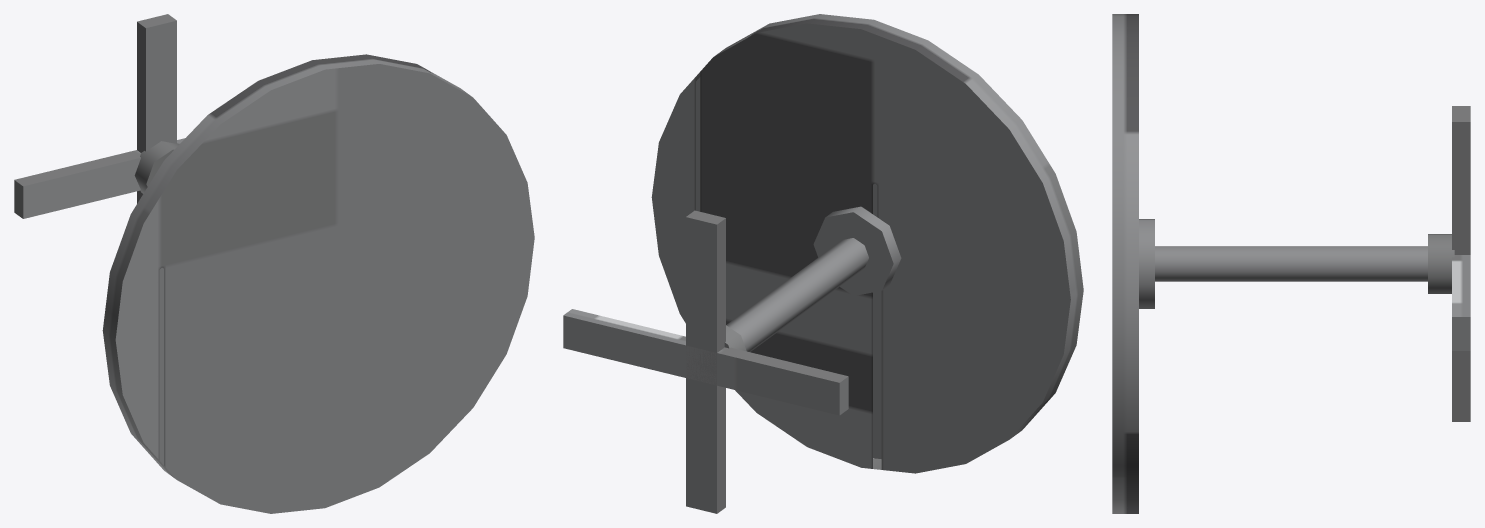
3 renders of one model, left to right at view 1: azimuth 30°, elevation 25°; view 2: azimuth 150°, elevation 25°; view 3: azimuth 270°, elevation 25°, orthographic. The views are drawn at different scales.
Bounding box in the file's own units: 0.94 × 0.94 × 0.671.
